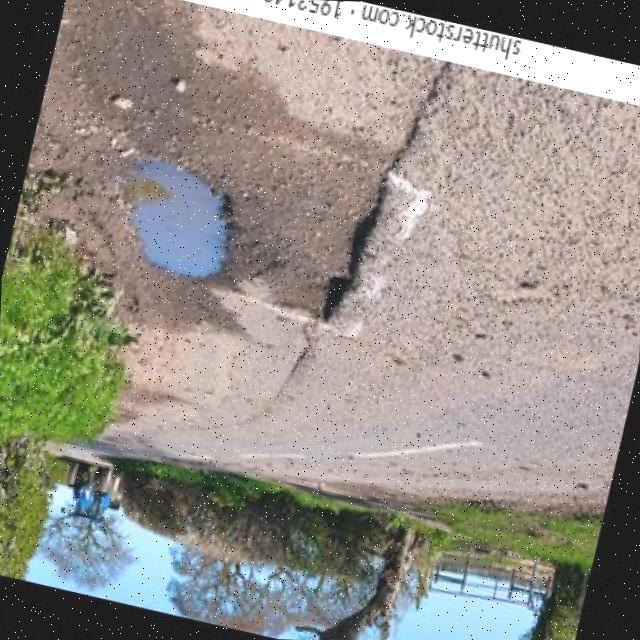Pothole: (124, 155, 228, 278)
